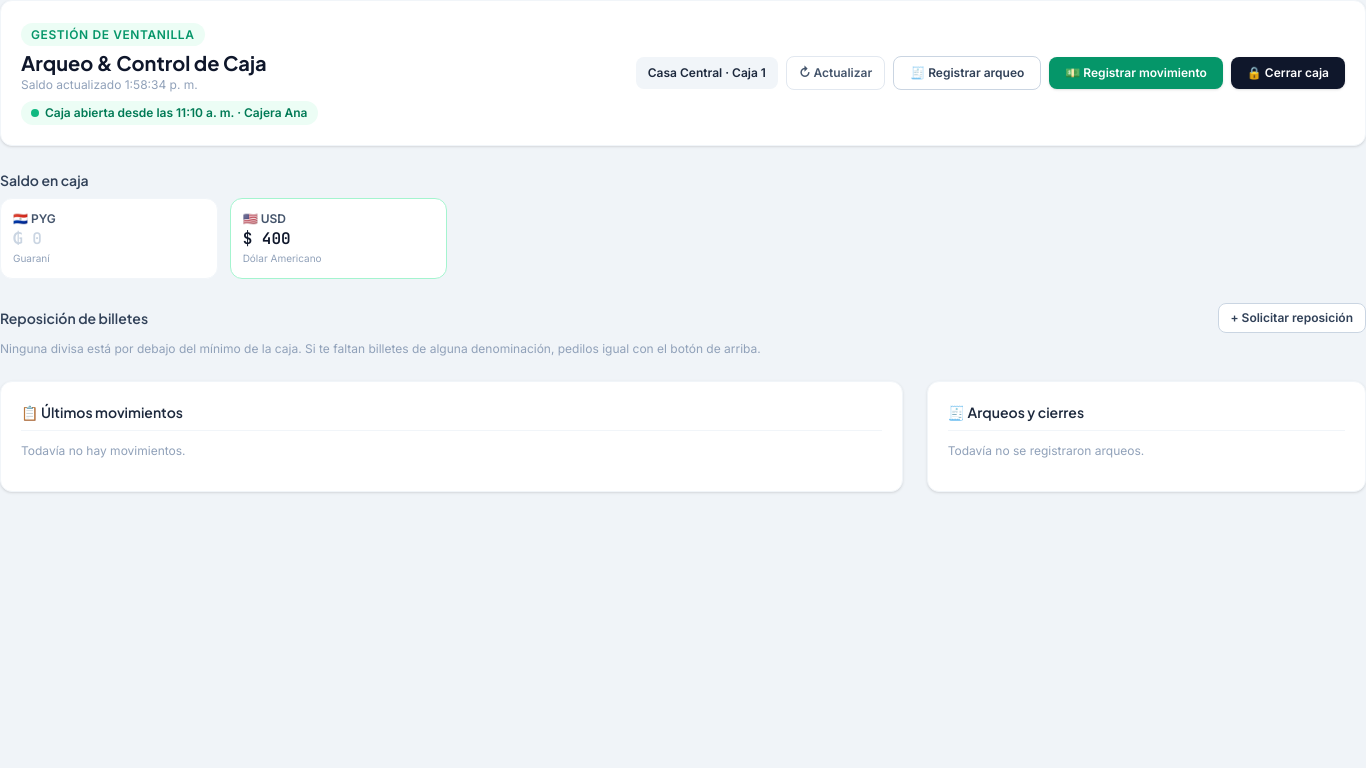
CashCountView · saldo por divisa (PI-44 / PI-78) › muestra el error que devuelve la API
The width and height of the screenshot is (1366, 768).
Check: the text "$ 400" is shown, box [243,228,291,249]
Click the button "💵 Registrar movimiento": click(1136, 73) [1049,57,1223,89]
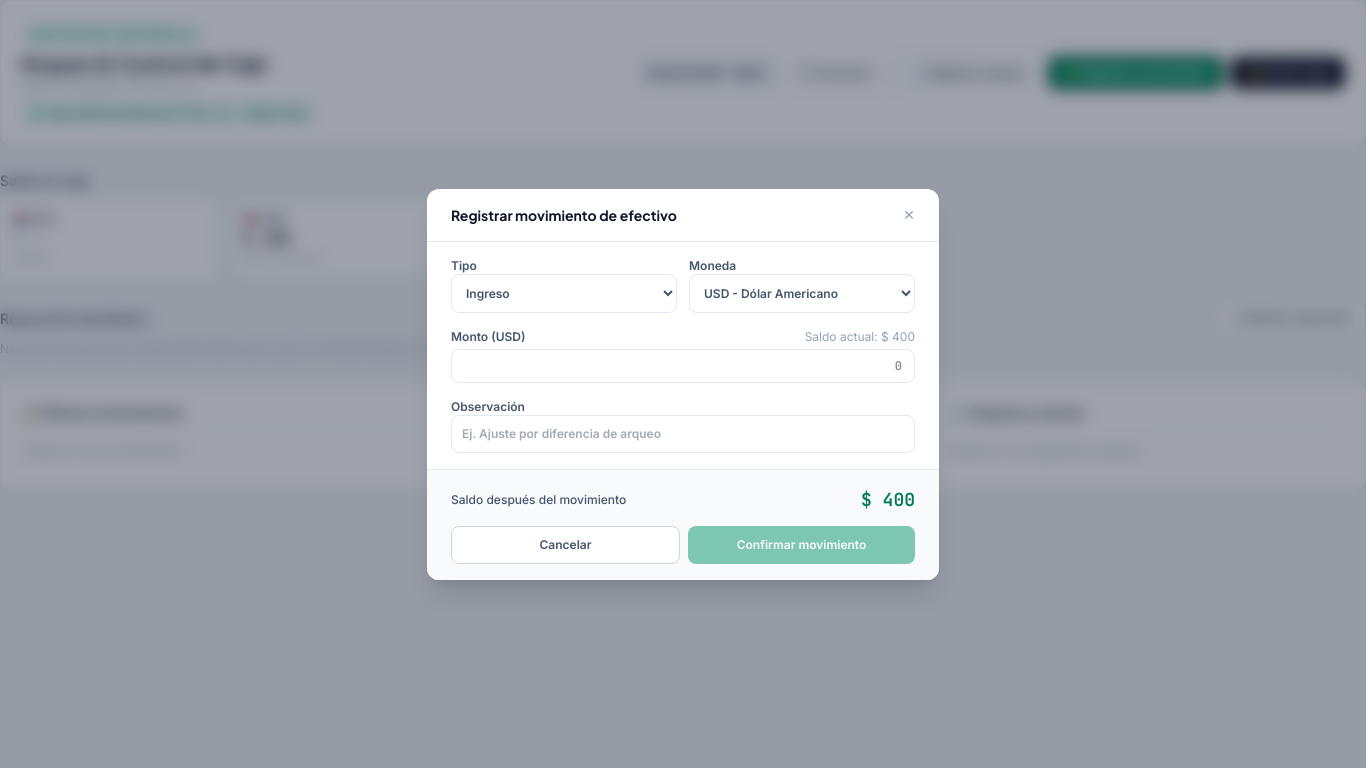
In the number field labelled "Monto (USD)": (683, 366) [451,348,915,382], type "10"
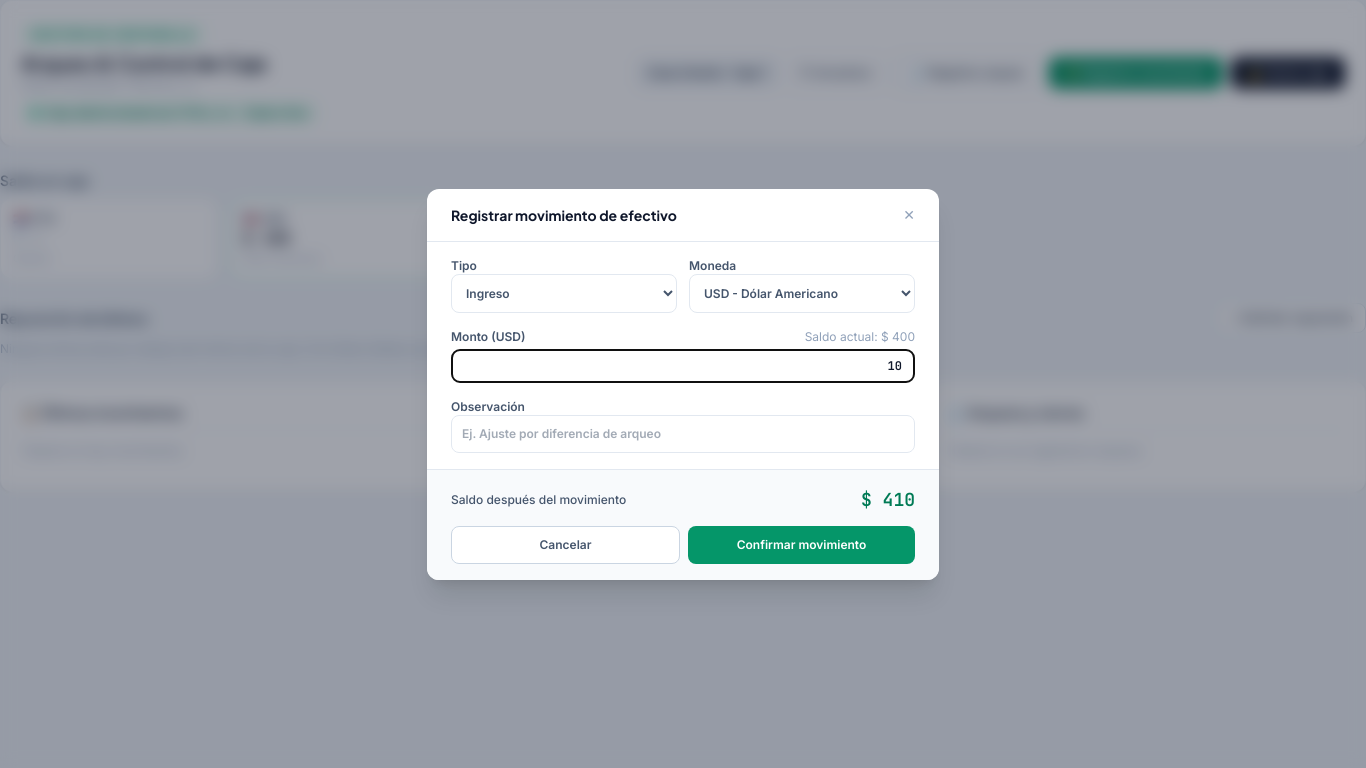
Click the button "Confirmar movimiento": click(802, 544) [688,526,915,564]
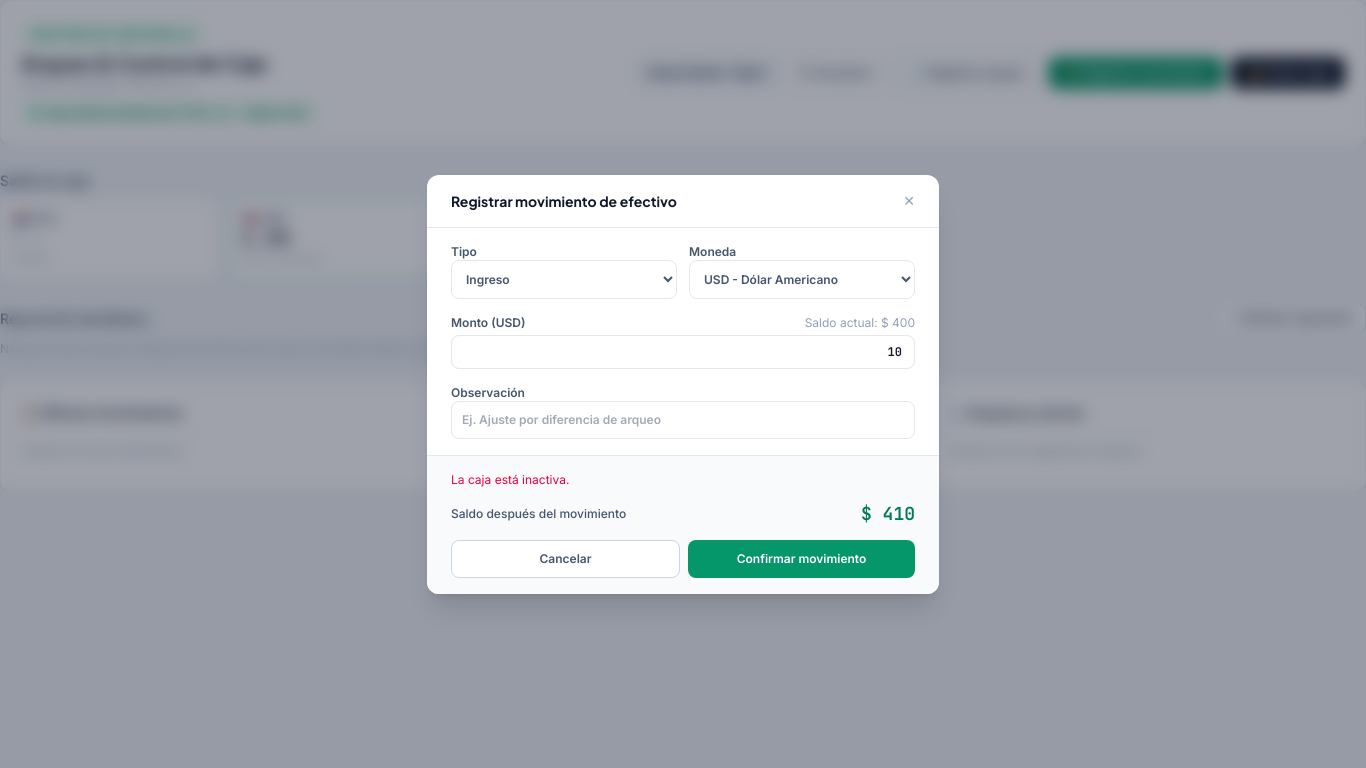
Check: the message reads "La caja está inactiva.", box [451,472,569,486]
